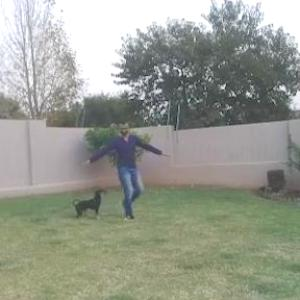land: (77, 118, 153, 208)
